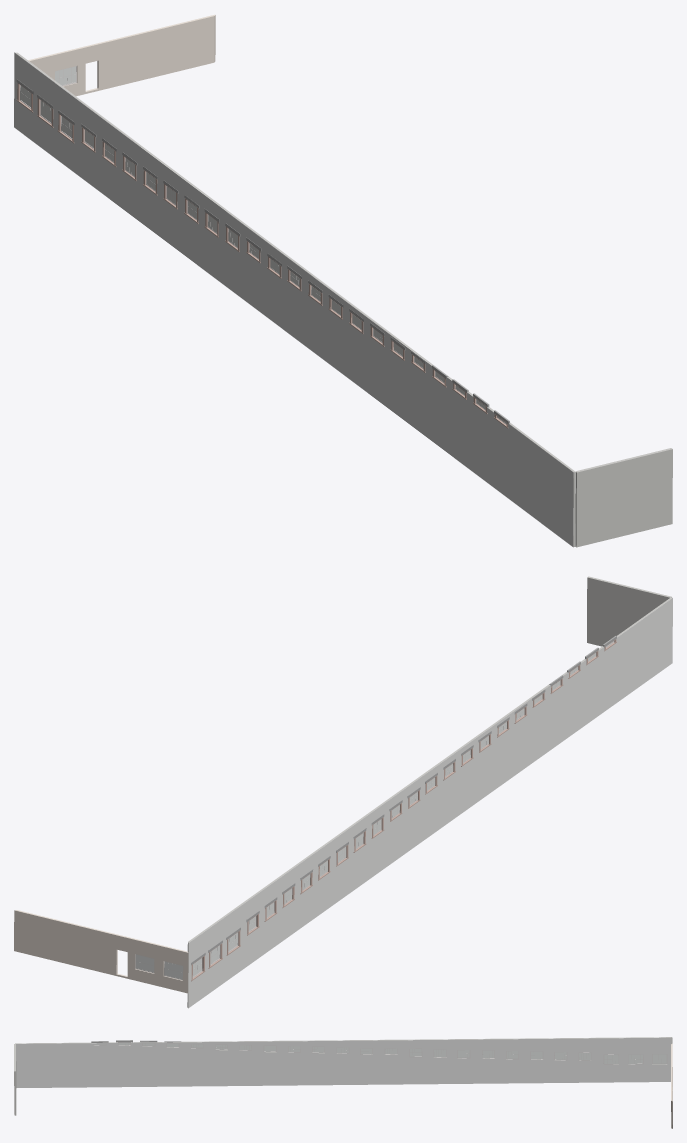
File: Sous-sol 1.fbx
3 renders of one model, top to bottom at view 1: azimuth 30°, elevation 25°; view 2: azimuth 150°, elevation 25°; view 3: azimuth 270°, elevation 25°, orthographic. The views are drawn at different scales.
Parts seen in each view (by area): view 1: Finition_int___Enduit_platre_11, MUR_EXT_001_38, Finition_int___Enduit_platre_13, Brique_ciment__exterieur__5; view 2: Finition_int___Enduit_platre_11, Finition_int___Enduit_platre_12, MUR_EXT_001_38, Brique_ciment__exterieur__5; view 3: Finition_int___Enduit_platre_10, Brique_ciment__exterieur__5, MUR_EXT_001_38, Body_1770, Body_1769, Brique_ciment__exterieur__6.
Boxes of the visible parts, x1,y1,x2,y2 form: Finition_int___Enduit_platre_11: (14, 52, 573, 546); MUR_EXT_001_38: (575, 448, 672, 547); Finition_int___Enduit_platre_13: (29, 16, 214, 96); Brique_ciment__exterieur__5: (15, 52, 575, 547); Finition_int___Enduit_platre_11: (188, 598, 672, 1008); Finition_int___Enduit_platre_12: (14, 910, 188, 993); MUR_EXT_001_38: (587, 576, 671, 646); Brique_ciment__exterieur__5: (187, 597, 672, 1007); Finition_int___Enduit_platre_10: (16, 1037, 670, 1087); Brique_ciment__exterieur__5: (15, 1037, 672, 1064); MUR_EXT_001_38: (14, 1044, 16, 1115); Body_1770: (628, 1054, 643, 1064); Body_1769: (603, 1054, 618, 1064); Brique_ciment__exterieur__6: (671, 1044, 672, 1128).
Size of the model in its own units: 1880 by 765 by 9046.
